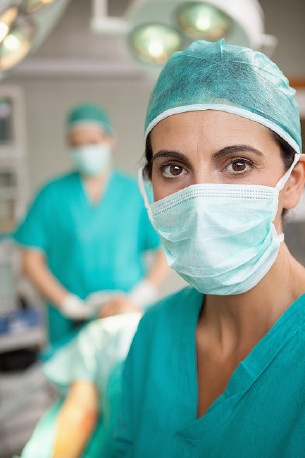Mask: (138, 136, 299, 296)
